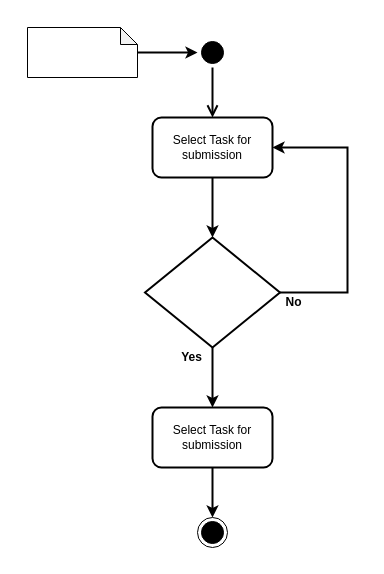
Some shapes in this 384 by 574 pixel diagram are drawn without their labels. Here are the shapes that lost their labels. From the top down, the centre of each, then its label:
At [82,52]: "User is logged in".
At [212,292]: "Submission contain needed file".
